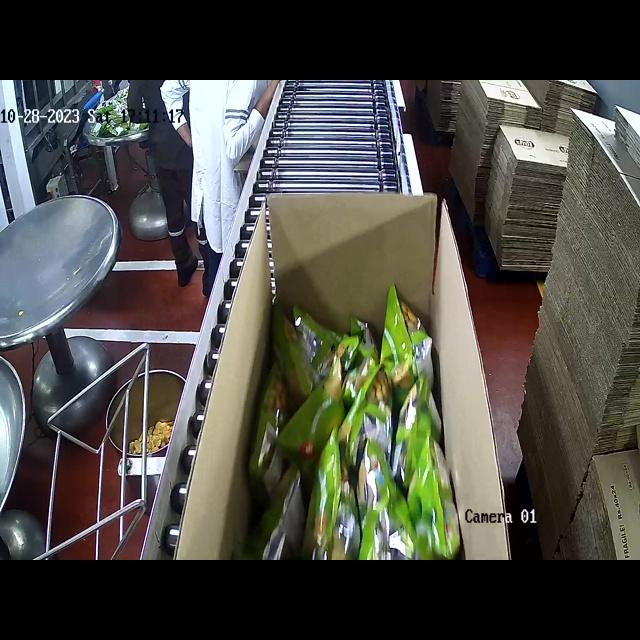yogurt: (248, 284, 461, 558)
